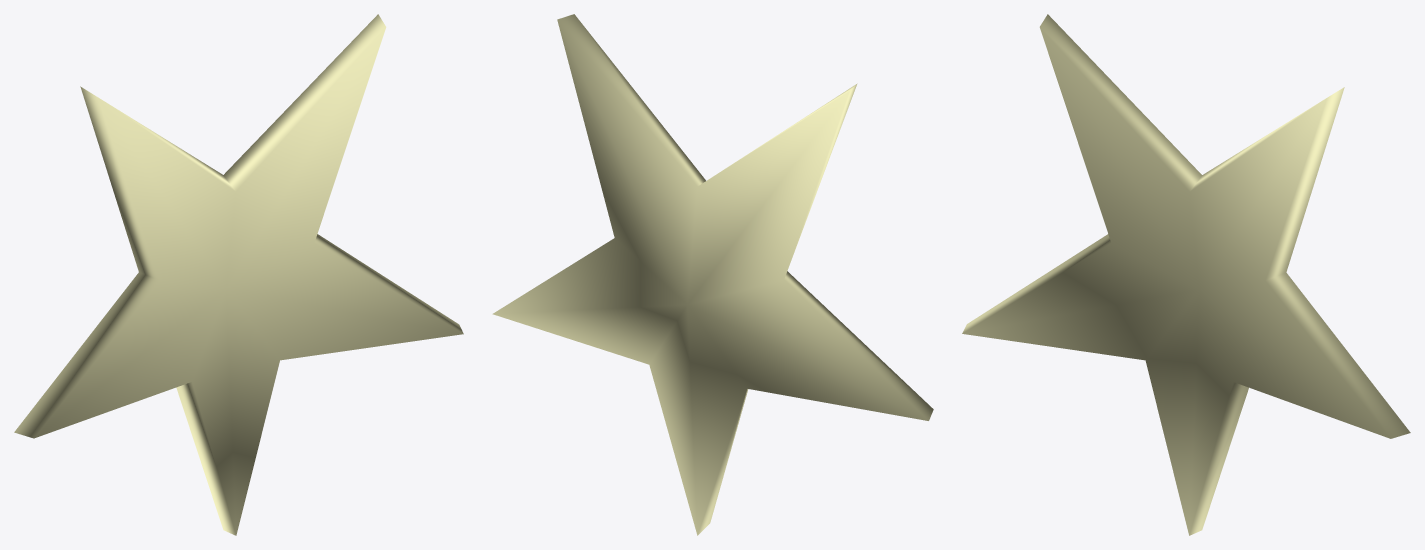
The model's file is kami_valletta_star1.dae.
3 renders of one model, left to right at view 1: azimuth 30°, elevation 25°; view 2: azimuth 150°, elevation 25°; view 3: azimuth 330°, elevation 25°, orthographic.
Parts seen in each view (by area): view 1: o_valletta_star1_0; view 2: o_valletta_star1_0; view 3: o_valletta_star1_0.
Part boxes in pixels (x1,y1,x2,y2): o_valletta_star1_0: (14,14,463,535); o_valletta_star1_0: (492,14,933,535); o_valletta_star1_0: (962,14,1410,535).
Bounding box in the file's own units: 0.0371 × 0.00521 × 0.0386.
